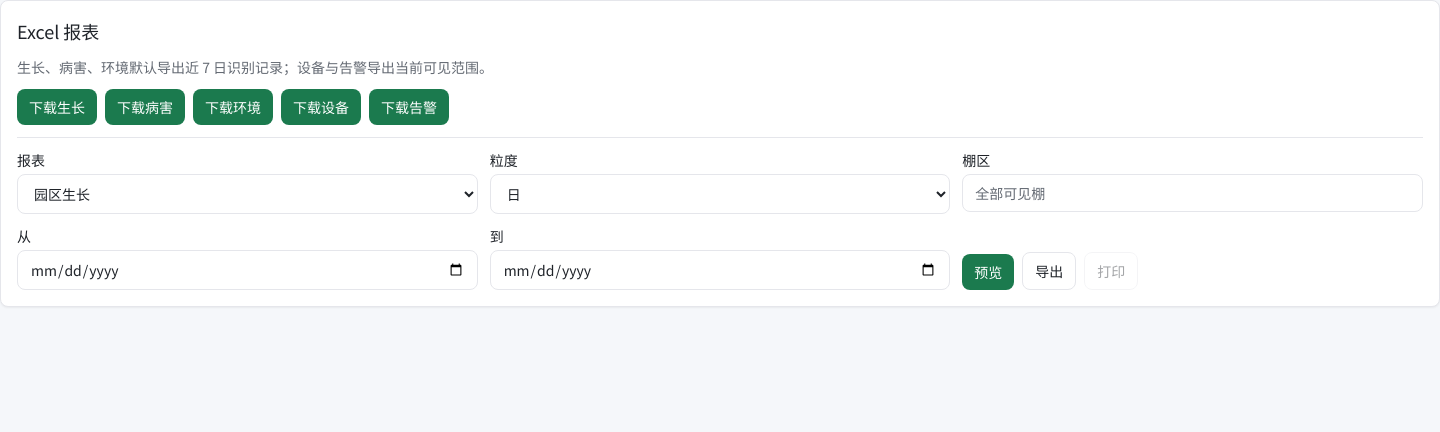
Test: ReportsView preview › previews devices with online=online and exports the same params
The image size is (1440, 432).
Select "设备在线台账" in the dropdown labelled "报表": {"x": 247, "y": 194} x1=17 y1=174 x2=478 y2=214
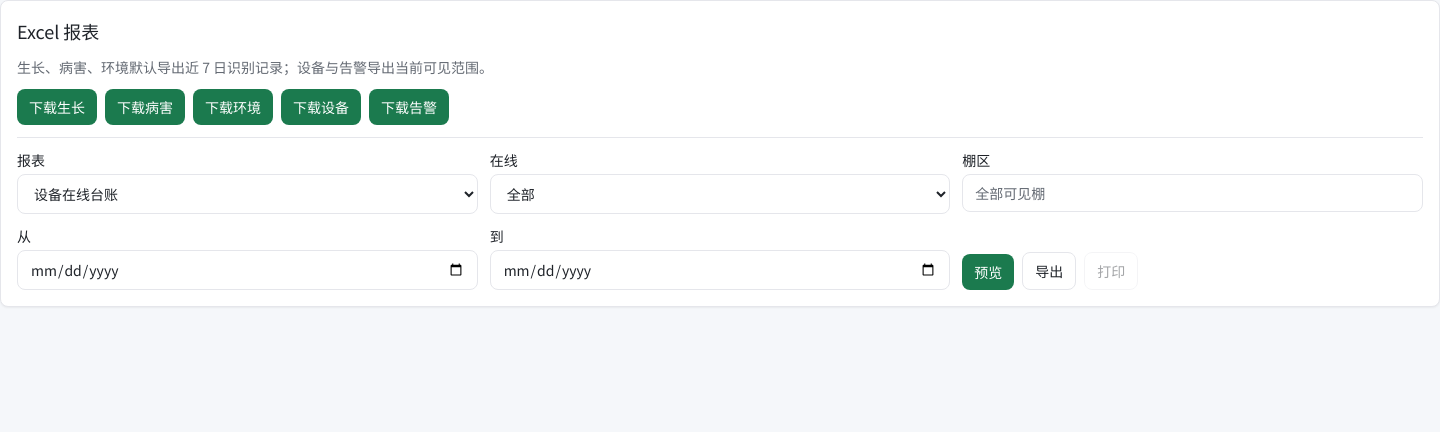
Expected: the dropdown with test id "report-online" reads "在线", x1=490 y1=174 x2=950 y2=214
Submit the form with test id "report-filters", box x1=17 y1=137 x2=1423 y2=290
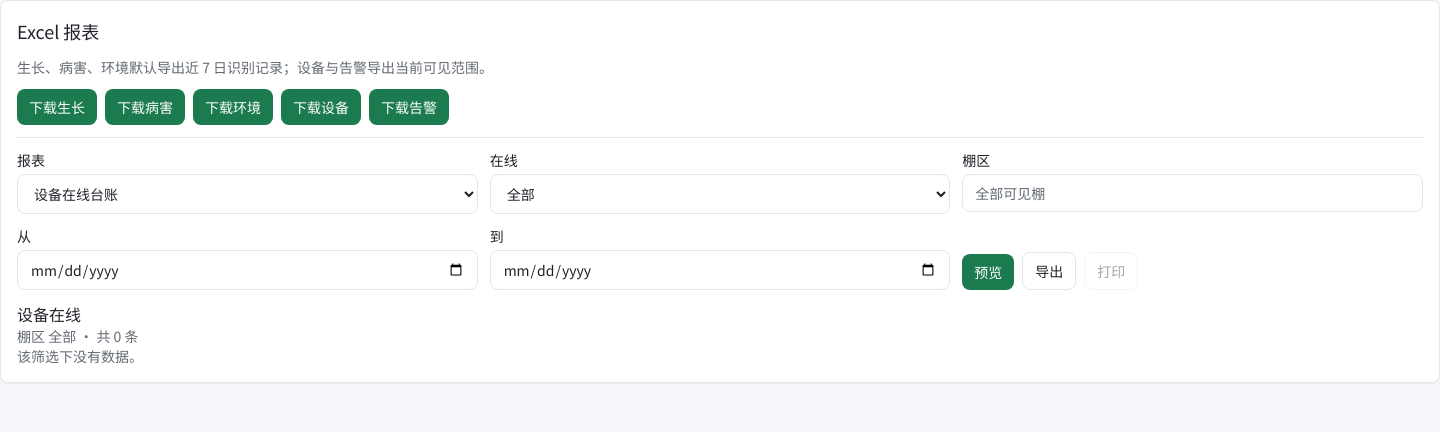
Select "在线" in the dropdown with test id "report-online": {"x": 720, "y": 194} x1=490 y1=174 x2=950 y2=214
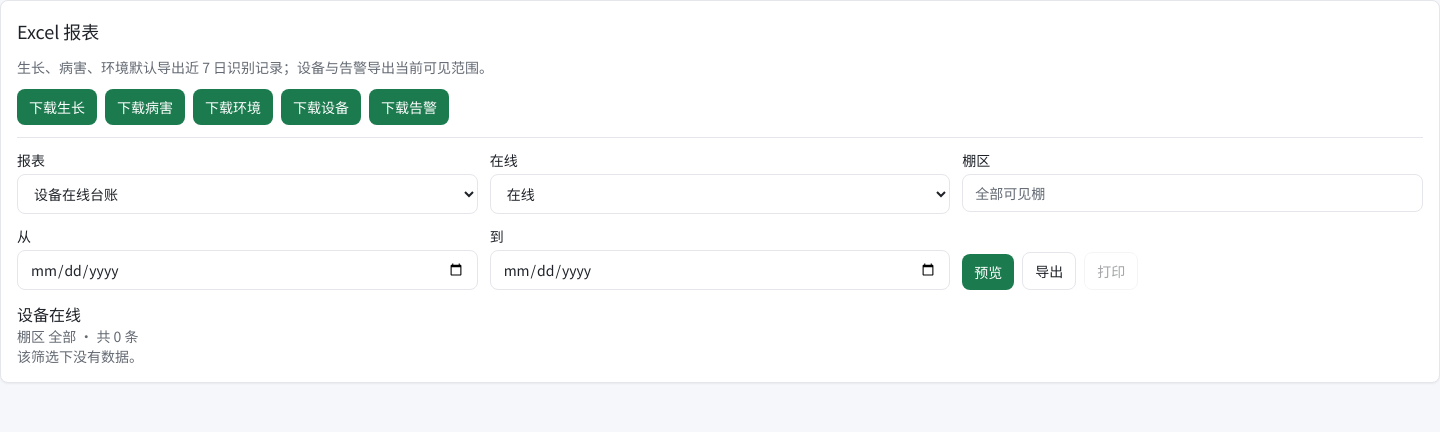
Submit the form with test id "report-filters", box x1=17 y1=137 x2=1423 y2=290
Click the button "导出": {"x": 1049, "y": 271} x1=1022 y1=252 x2=1076 y2=290
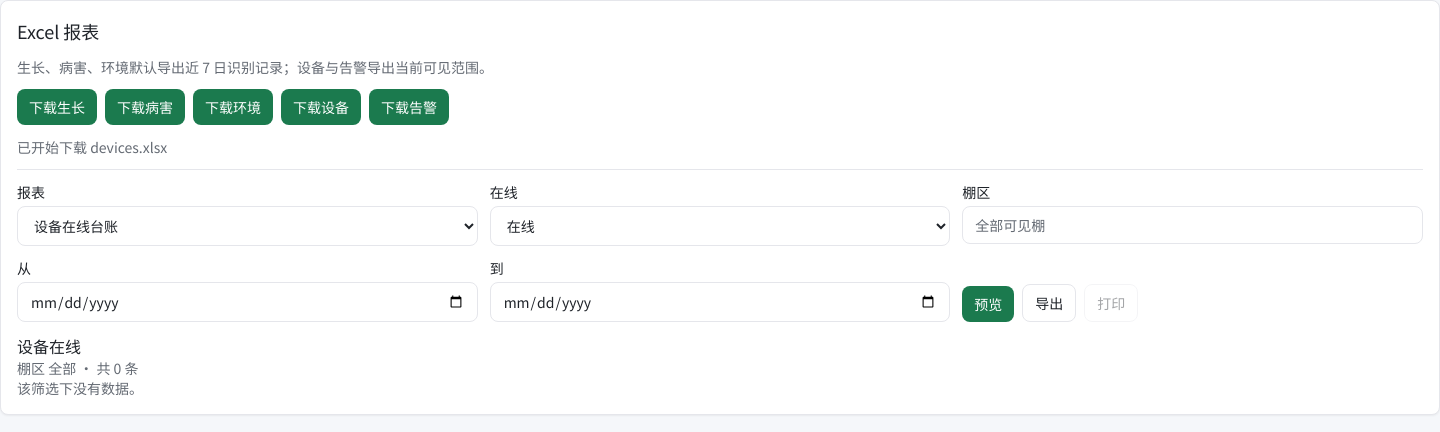
Expected: the text with test id "report-download" reads "已开始下载 devices.xlsx", x1=17 y1=137 x2=167 y2=157
